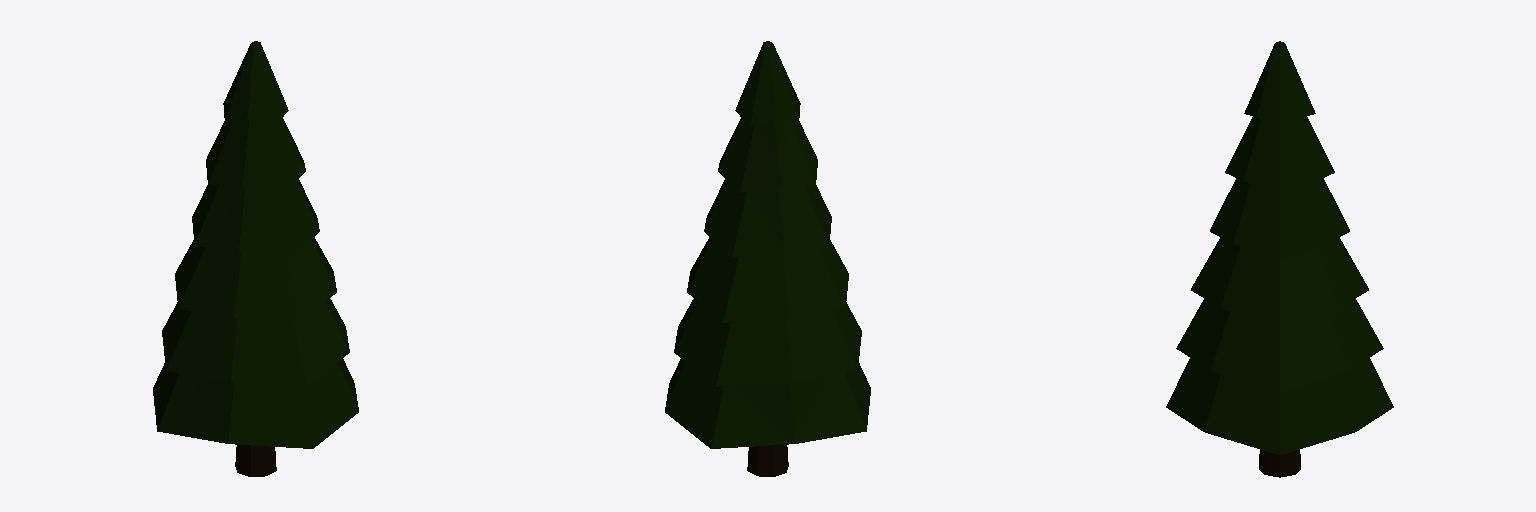
Rendered from pine.obj.
The picture shows the model from 3 angles: view 1: azimuth 30°, elevation 25°; view 2: azimuth 150°, elevation 25°; view 3: azimuth 270°, elevation 25°; orthographic projection.
Visible parts, largest first — view 1: Cylinder.008; view 2: Cylinder.008; view 3: Cylinder.008.
Part boxes in pixels (x1,y1,x2,y2): Cylinder.008: (153, 41, 358, 476); Cylinder.008: (665, 41, 870, 476); Cylinder.008: (1166, 41, 1393, 477).
Size of the model in its own units: 1.35 by 2.77 by 1.35.